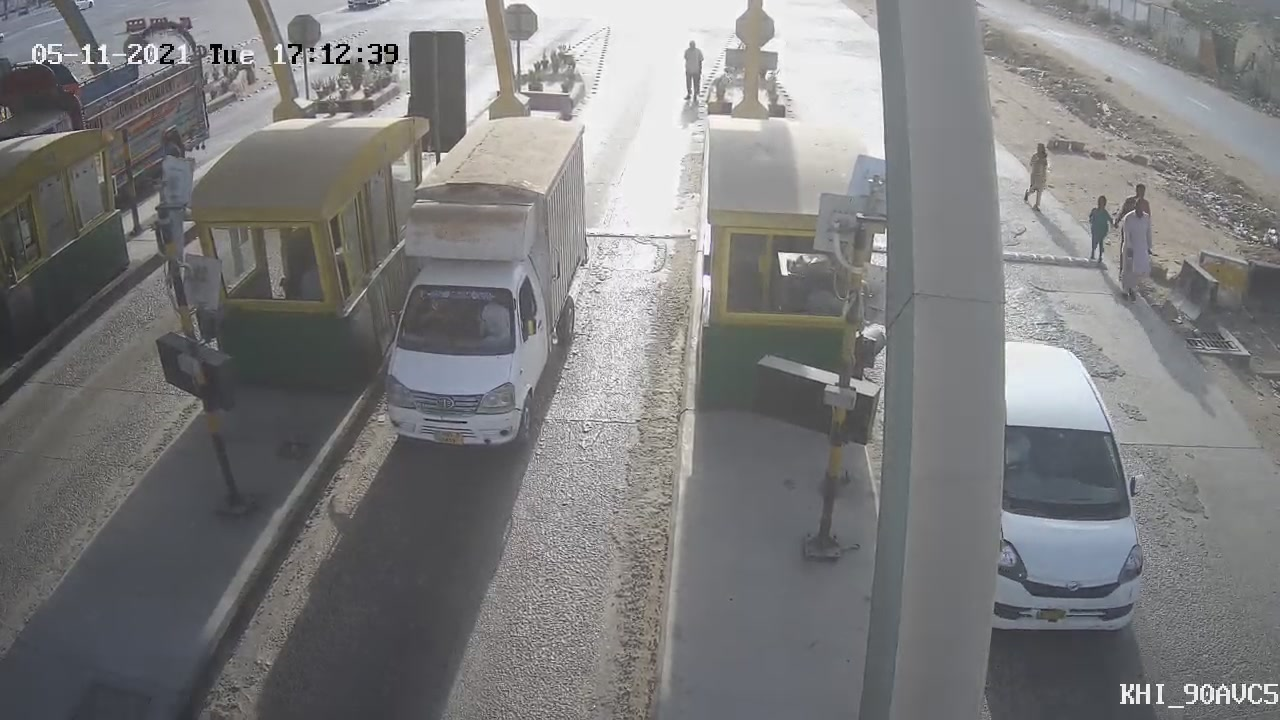F2: (360, 96, 597, 474)
